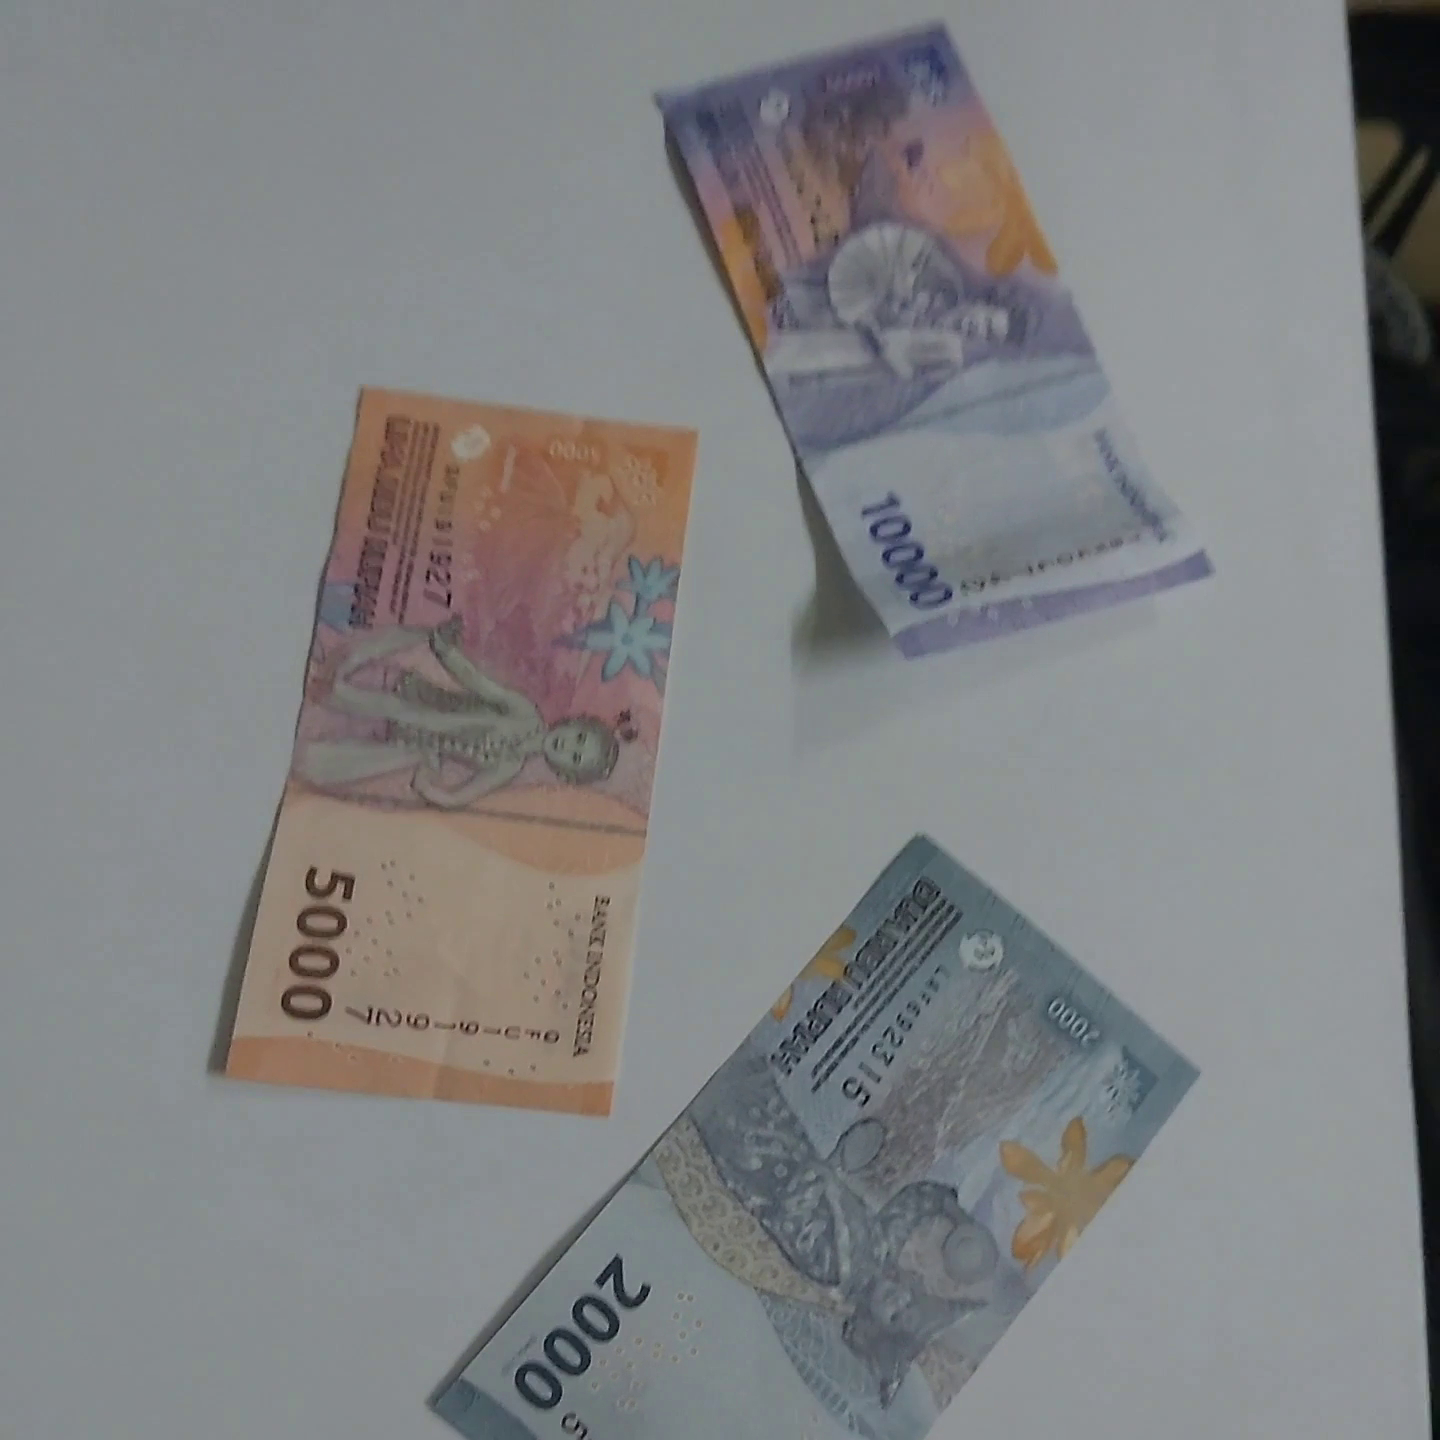10k: (667, 115, 1018, 720)
2k: (409, 839, 1336, 1440)
5k: (319, 378, 741, 1088)
